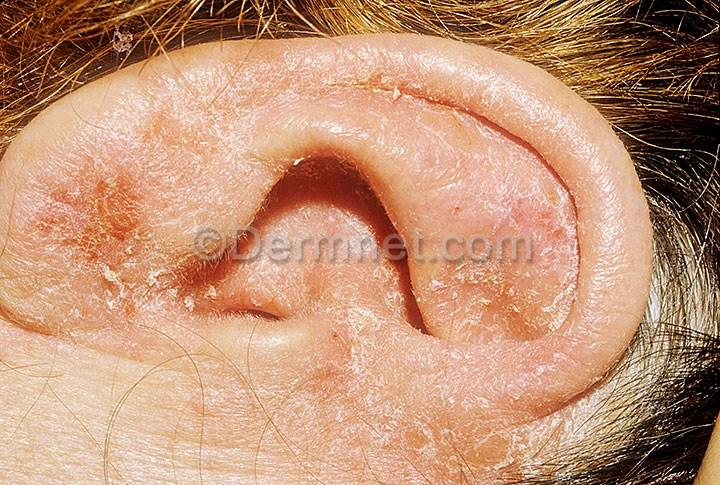Eczema: (285, 331, 503, 485), (375, 53, 548, 213), (430, 217, 614, 365), (21, 204, 172, 347), (91, 101, 223, 215), (223, 57, 376, 143), (172, 315, 289, 411)
